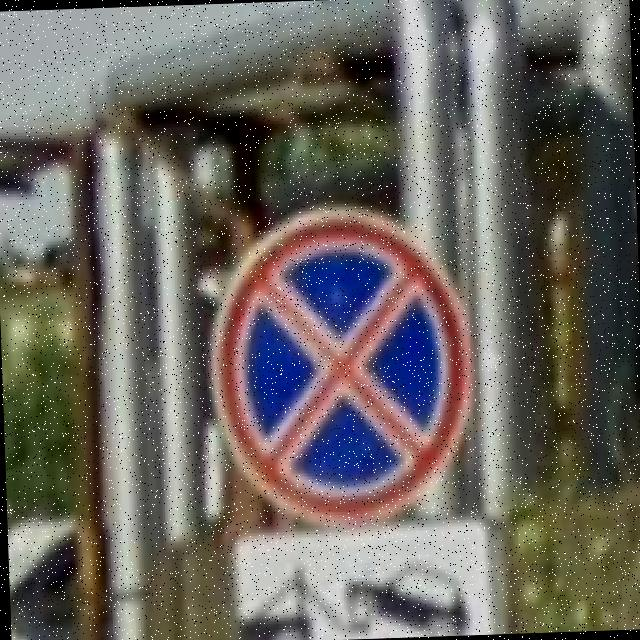Zakaz zatrzymywania sie: (203, 199, 477, 528)
